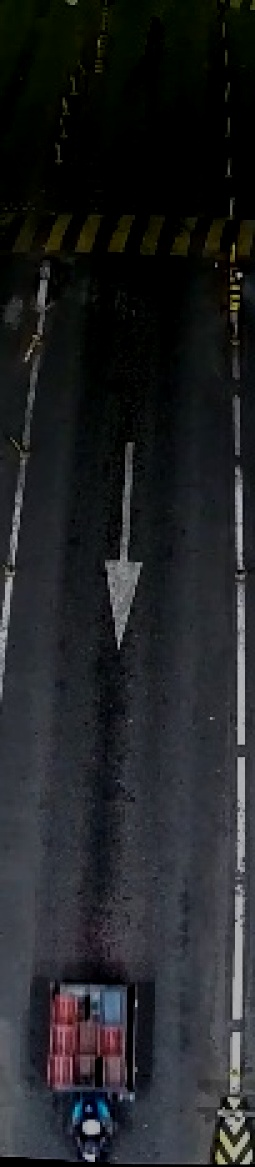bike: (54, 1080, 143, 1164)
